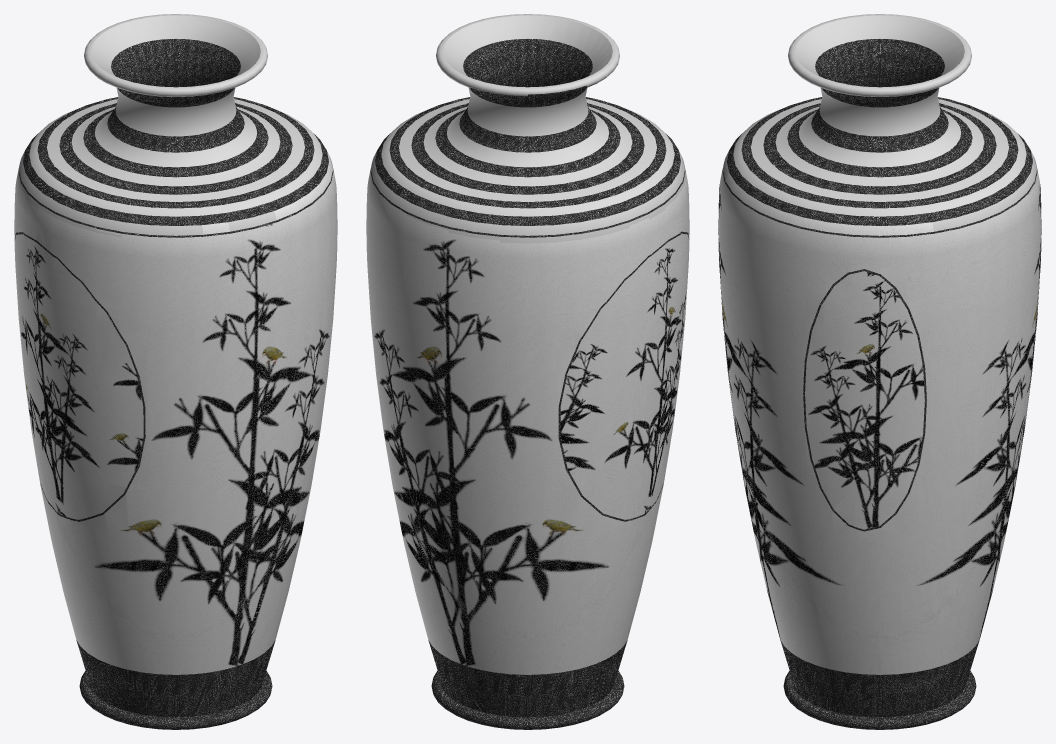
Rendered from Vase.dae.
3 renders of one model, left to right at view 1: azimuth 30°, elevation 25°; view 2: azimuth 150°, elevation 25°; view 3: azimuth 270°, elevation 25°, orthographic.
Visible parts, largest first — view 1: SketchUp (×22); view 2: SketchUp (×22); view 3: SketchUp (×22).
Part boxes in pixels (bbox=[...]): SketchUp (×22): bbox=[14, 14, 337, 729]; SketchUp (×22): bbox=[366, 14, 689, 729]; SketchUp (×22): bbox=[718, 14, 1041, 729].
Size of the model in its own units: 37.81 by 37.81 by 82.53.
